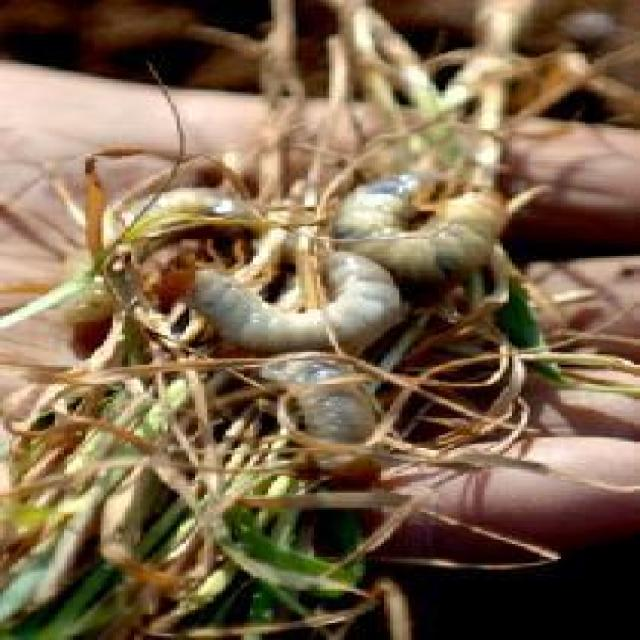Grub-Adult-: (157, 238, 450, 356), (306, 146, 529, 282), (236, 342, 416, 496)
